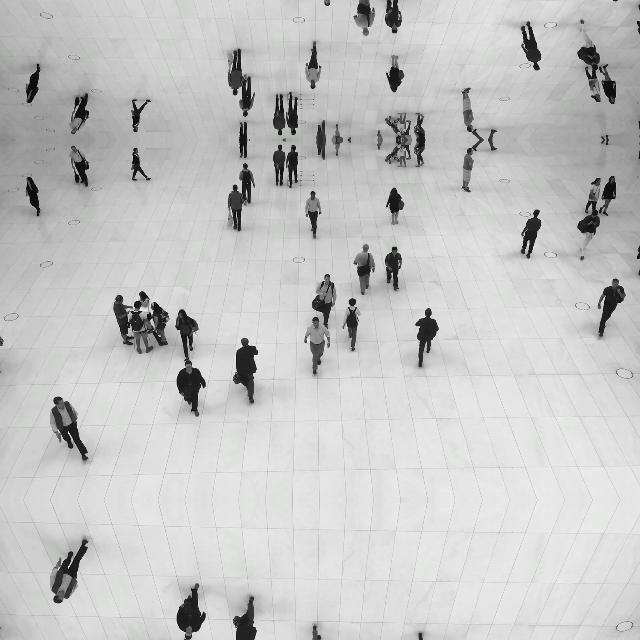person: (50, 396, 90, 462), (50, 538, 90, 604), (233, 337, 259, 405), (176, 359, 206, 416), (176, 583, 206, 640), (598, 278, 626, 338), (304, 316, 330, 376), (415, 308, 439, 368), (129, 301, 155, 355), (312, 274, 336, 330), (175, 309, 199, 361), (577, 209, 601, 261), (577, 19, 601, 71), (233, 595, 259, 640), (113, 294, 135, 346), (353, 243, 375, 294), (520, 209, 542, 259), (520, 21, 542, 71), (342, 298, 362, 352), (68, 145, 90, 187), (68, 93, 90, 135), (150, 302, 170, 346), (227, 184, 245, 232), (227, 48, 245, 96), (384, 246, 402, 292), (353, 0, 375, 36), (238, 74, 256, 118), (238, 162, 256, 205), (306, 190, 322, 238), (306, 42, 322, 90), (599, 176, 617, 217), (130, 147, 152, 180), (599, 64, 617, 104), (130, 100, 152, 132), (386, 187, 404, 225), (386, 55, 404, 93), (584, 178, 602, 215), (584, 66, 602, 102), (25, 177, 41, 217), (25, 63, 41, 103), (286, 145, 300, 189), (286, 91, 300, 135), (384, 0, 402, 33), (273, 145, 287, 187), (273, 93, 287, 135), (462, 148, 474, 192), (462, 88, 474, 132), (303, 624, 330, 640), (470, 140, 498, 152), (414, 140, 426, 168), (470, 128, 498, 140), (414, 112, 426, 140), (138, 290, 150, 314), (398, 141, 408, 167), (398, 113, 408, 139), (402, 140, 412, 160), (316, 140, 326, 160), (402, 120, 412, 140), (316, 120, 326, 140), (331, 140, 343, 156), (415, 632, 439, 640), (331, 124, 343, 140), (238, 140, 248, 158), (238, 122, 248, 140), (311, 0, 336, 6), (376, 140, 384, 150), (376, 130, 384, 140), (600, 140, 610, 146), (600, 134, 610, 140), (597, 0, 626, 1), (175, 639, 199, 640)
